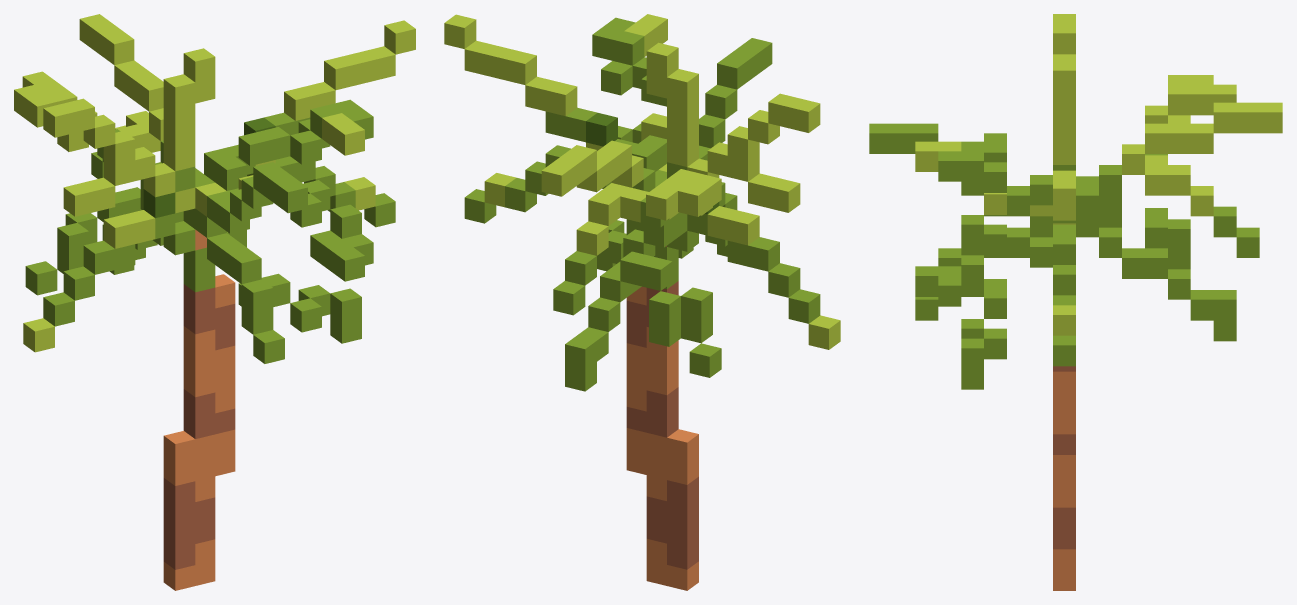
Rendered from Playa-Alterna-0.obj.
3 renders of one model, left to right at view 1: azimuth 30°, elevation 25°; view 2: azimuth 150°, elevation 25°; view 3: azimuth 270°, elevation 25°, orthographic.
Bounding box in the file's own units: 1.9 × 2.5 × 1.8.
1 material, 1 textured.
